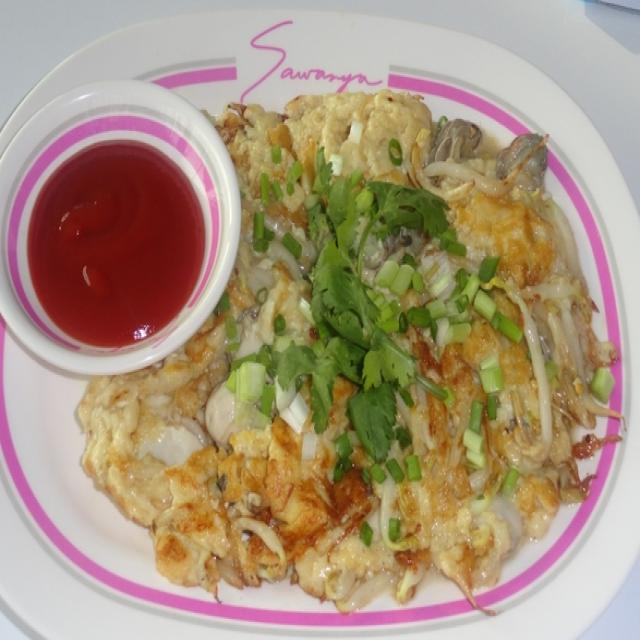炸货点心: (12, 18, 631, 607)
蛋糕甜品: (12, 18, 631, 607)
